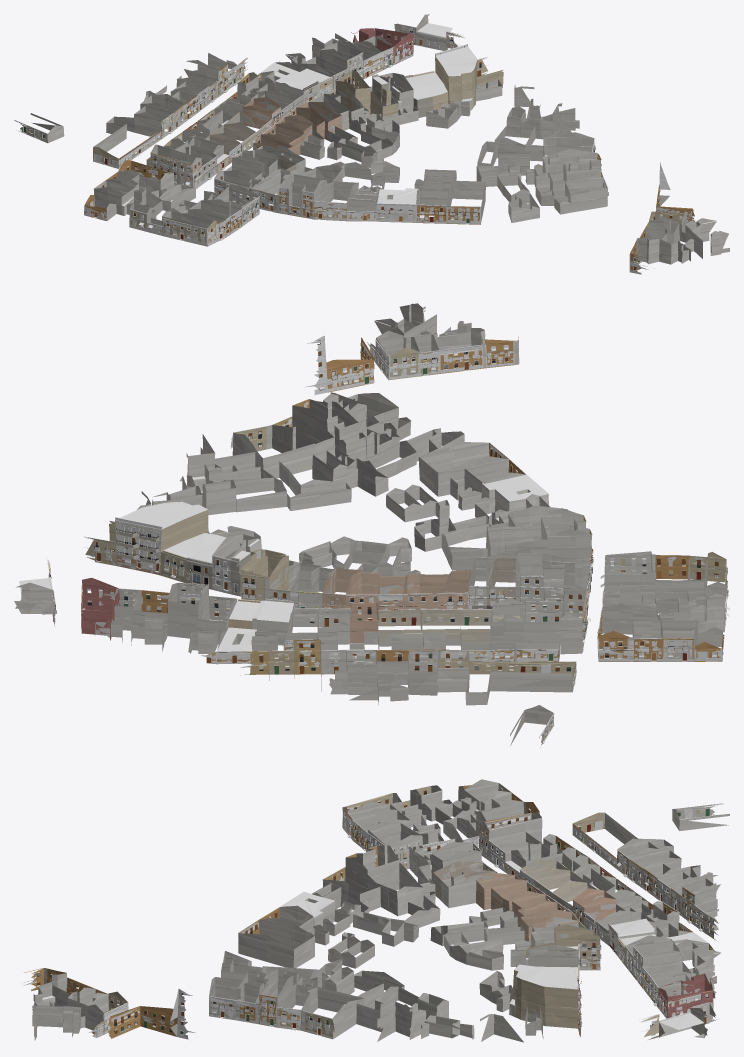
The model's file is zona_-2_-1.glb.
3 views of the same model, one above another, from view 1: azimuth 30°, elevation 25°; view 2: azimuth 150°, elevation 25°; view 3: azimuth 270°, elevation 25° (orthographic). The views are drawn at different scales.
Visible parts, largest first — view 1: z_casas_-2_-1, z_fachadas_-2_-1, z_casas_planas_-2_-1; view 2: z_casas_-2_-1, z_fachadas_-2_-1, z_casas_planas_-2_-1; view 3: z_casas_-2_-1, z_fachadas_-2_-1, z_casas_planas_-2_-1.
Part boxes in pixels (left/top/right/bottom): z_casas_-2_-1: left=19, top=14, right=729, bottom=273; z_fachadas_-2_-1: left=14, top=23, right=693, bottom=274; z_casas_planas_-2_-1: left=121, top=23, right=673, bottom=261; z_casas_-2_-1: left=14, top=303, right=726, bottom=748; z_fachadas_-2_-1: left=47, top=336, right=729, bottom=744; z_casas_planas_-2_-1: left=19, top=474, right=698, bottom=664; z_casas_-2_-1: left=24, top=779, right=729, bottom=1042; z_fachadas_-2_-1: left=20, top=783, right=723, bottom=1039; z_casas_planas_-2_-1: left=42, top=799, right=708, bottom=1038.
Size of the model in its own units: 175 by 16.13 by 211.
